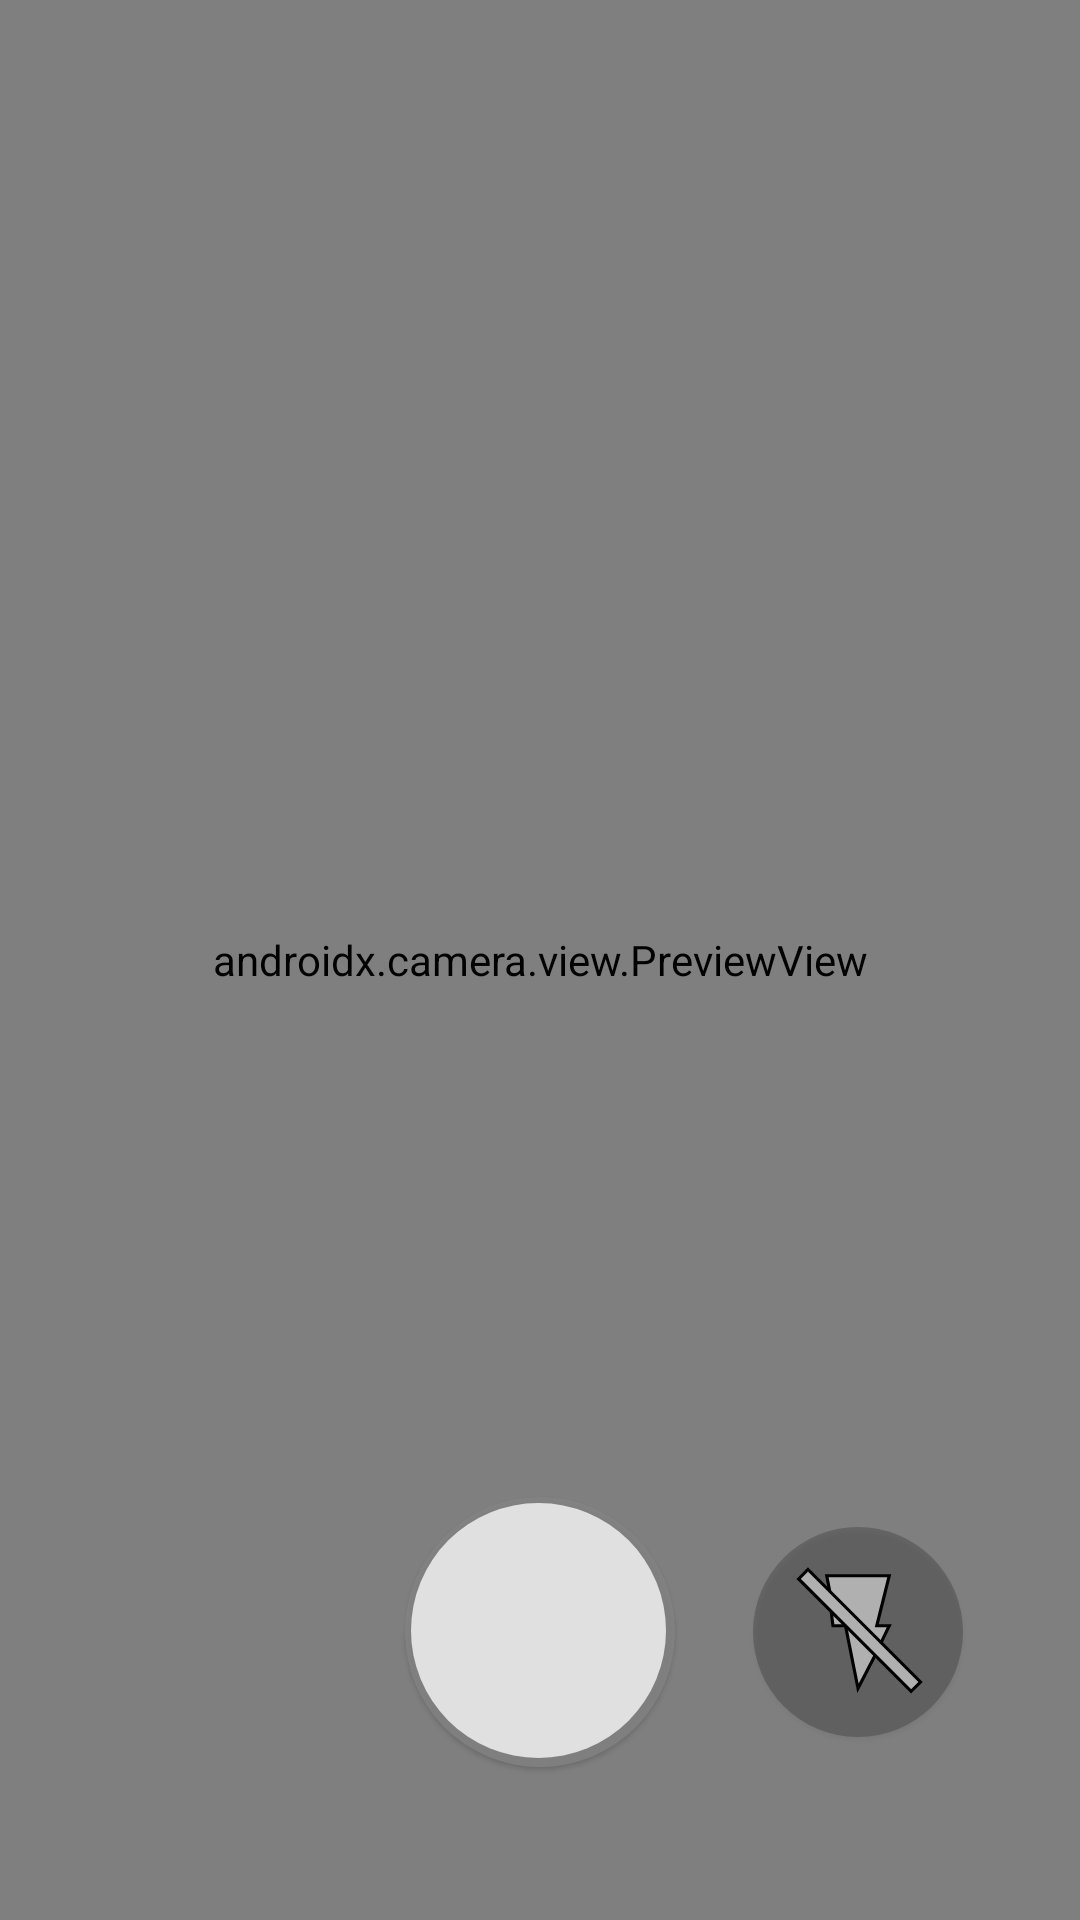

Icons on this 1080×1920 Android screen, each with its box as {"x1": x1, "y1": y1, "x2": x2, "y2": y2}:
lightning crossed: {"x1": 753, "y1": 1527, "x2": 963, "y2": 1737}
